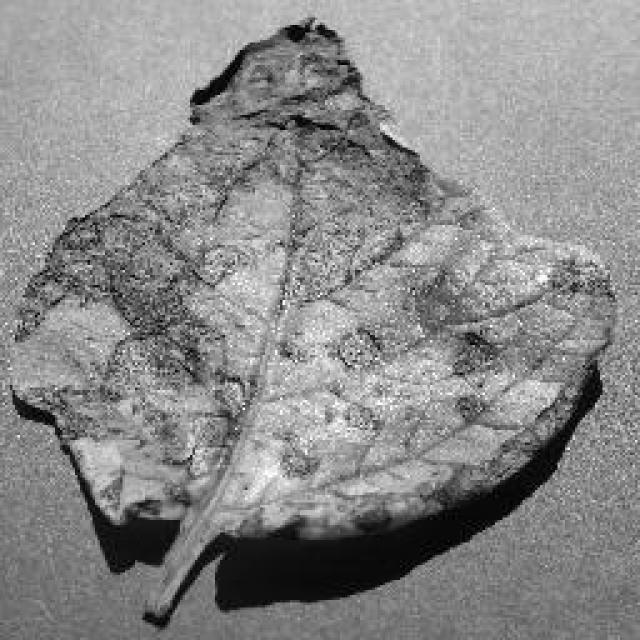Potato: (0, 15, 618, 625)
